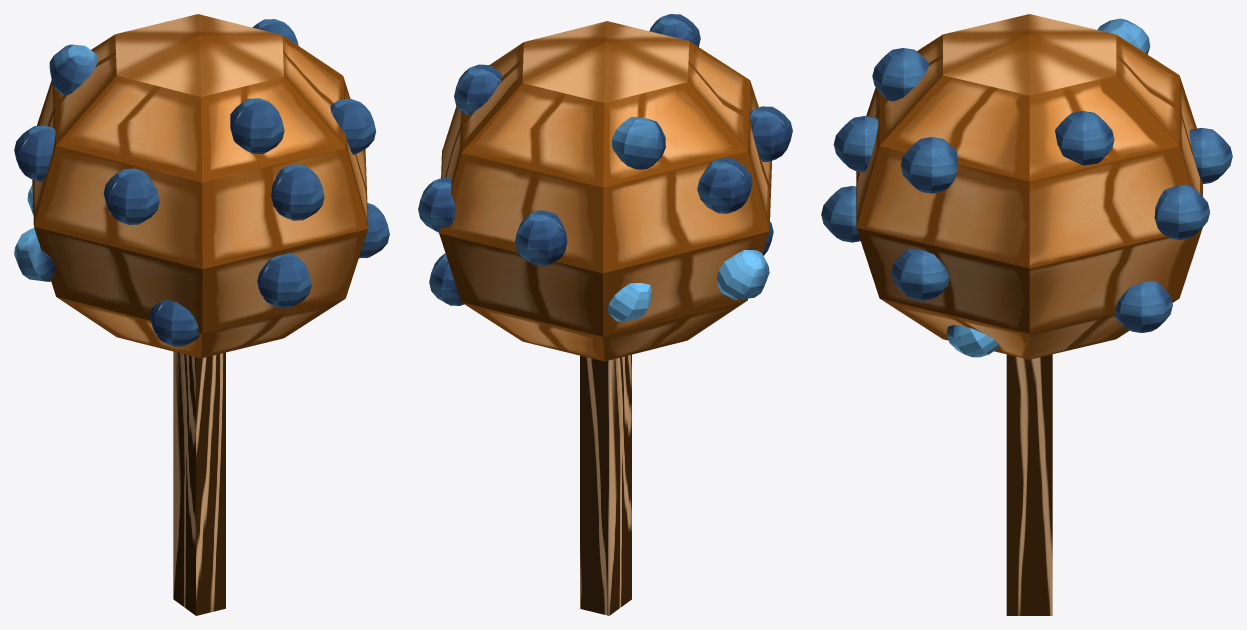
Rendered from waffle tree.fbx.
3 renders of one model, left to right at view 1: azimuth 30°, elevation 25°; view 2: azimuth 150°, elevation 25°; view 3: azimuth 270°, elevation 25°, orthographic. The views are drawn at different scales.
Parts seen in each view (by area): view 1: pSphere20; view 2: pSphere20; view 3: pSphere20.
Part boxes in pixels (left/top/right/bottom): pSphere20: left=14, top=14, right=389, bottom=615; pSphere20: left=418, top=14, right=792, bottom=615; pSphere20: left=821, top=14, right=1232, bottom=615.
Size of the model in its own units: 8.54 by 13.78 by 8.95.
Materials: 1 (1 with a texture image).
